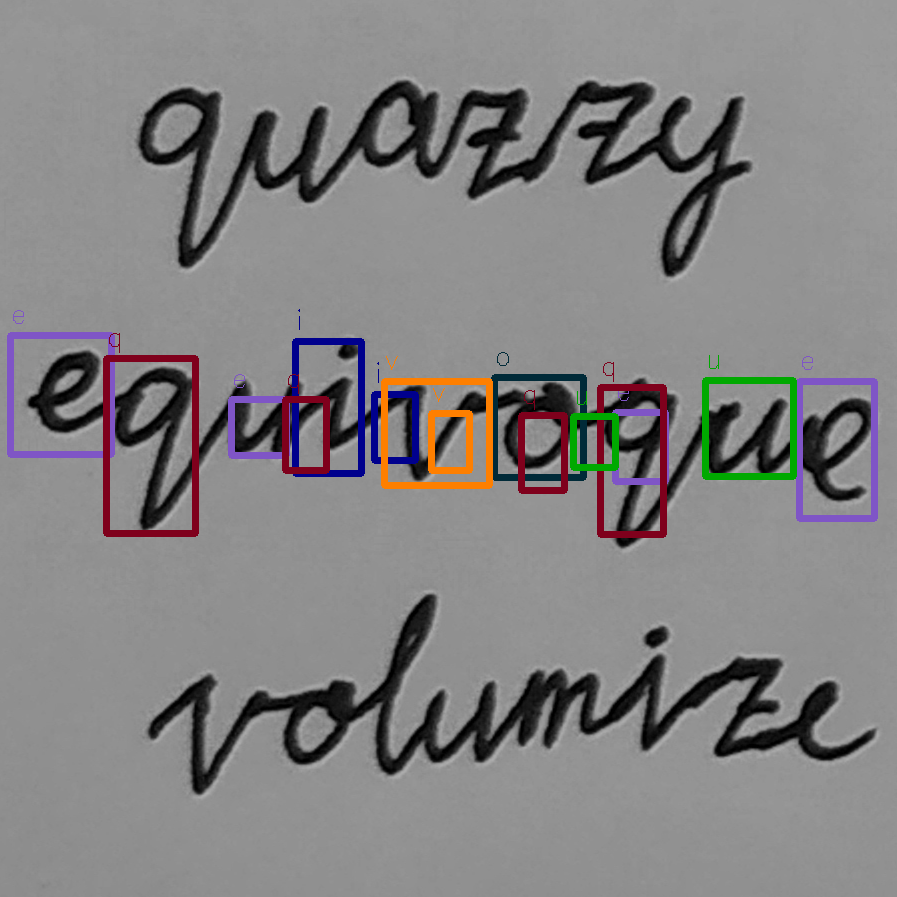e: (800, 392, 879, 510), (25, 346, 106, 437)
i: (314, 333, 375, 456)
o: (497, 375, 584, 477)
q: (595, 371, 682, 553), (109, 363, 203, 531)
u: (695, 388, 792, 484), (219, 372, 308, 464)
v: (384, 373, 480, 486)
